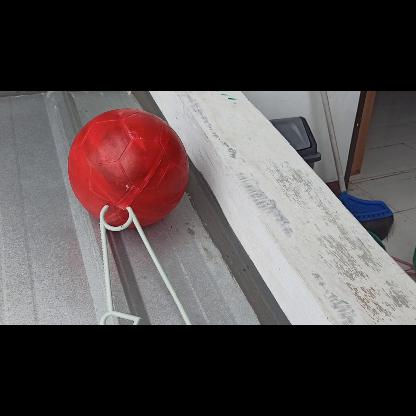red_ball: (65, 108, 186, 230)
